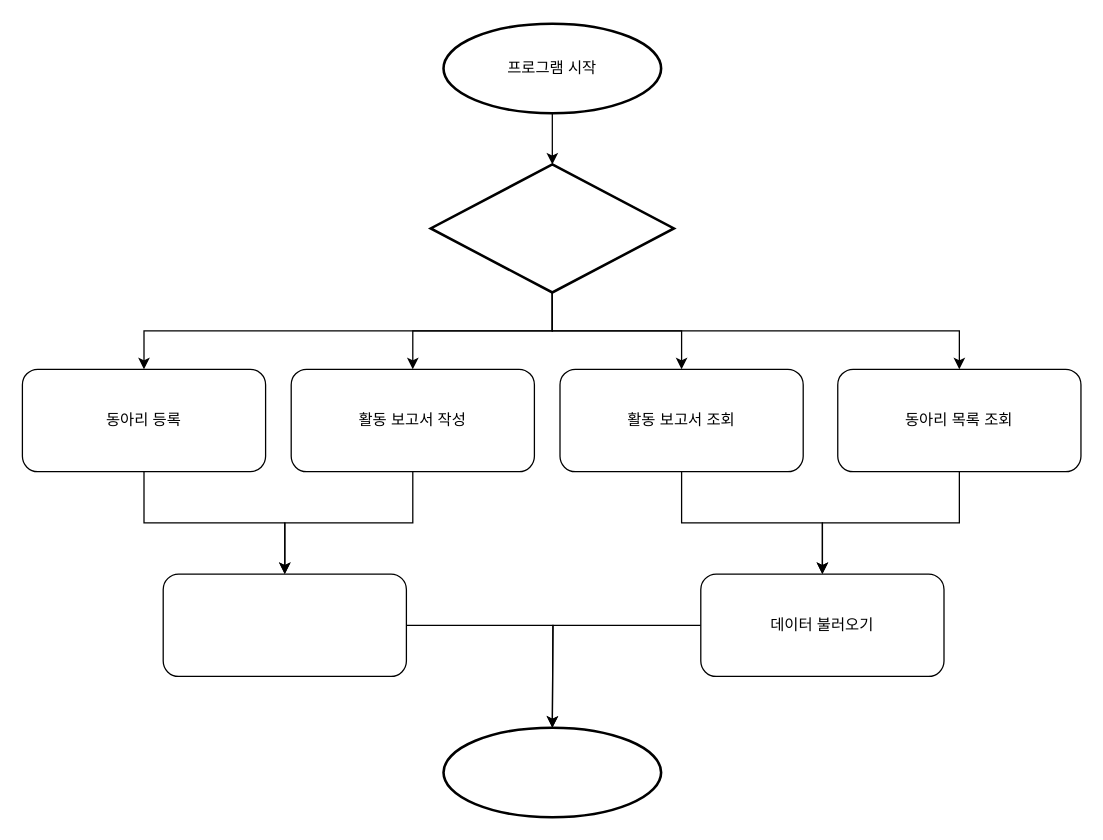
This 1103x840 diagram has some shape labels left out. Here are the shapes that lost their labels. From the top down, the centre of each, then its label:
At [552,228]: "메인 메뉴 표시".
At [284,624]: "데이터 저장".
At [552,772]: "프로그램 종료".
